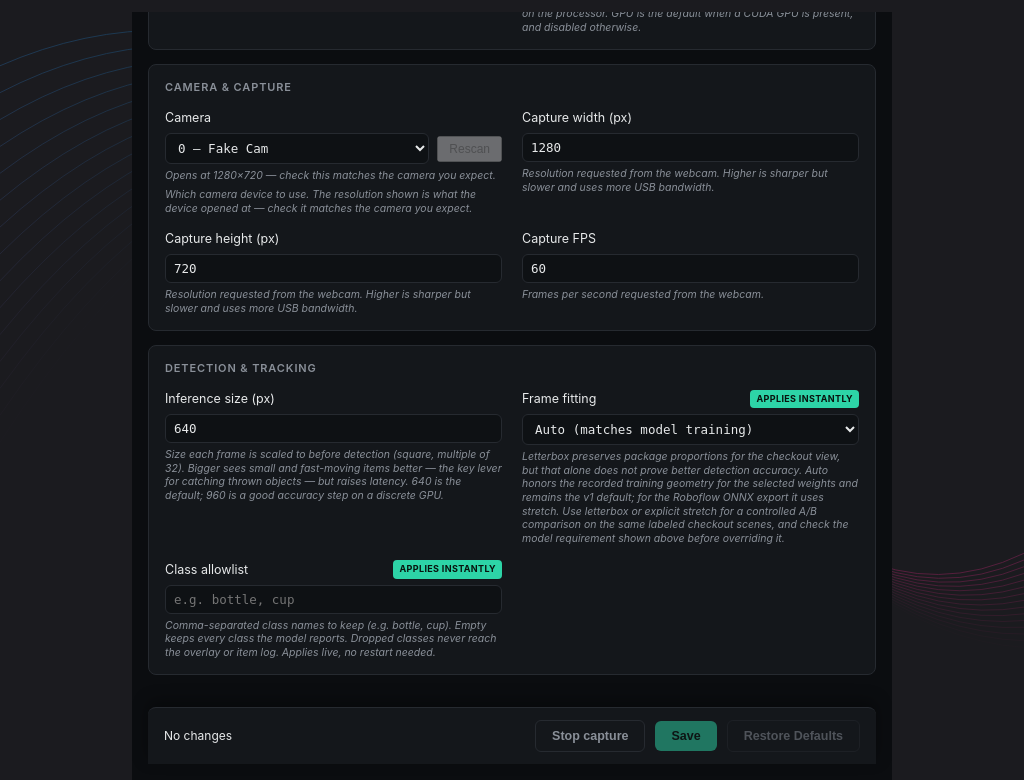
Test: AdminPanel › editing a restart-required field while running blocks Save with a warning
This screenshot has width=1024, height=780.
(page scrolled)
Replace the text in the number field labelled "Inference size (px)" with "960" at (334, 429), box [165,414,502,443]
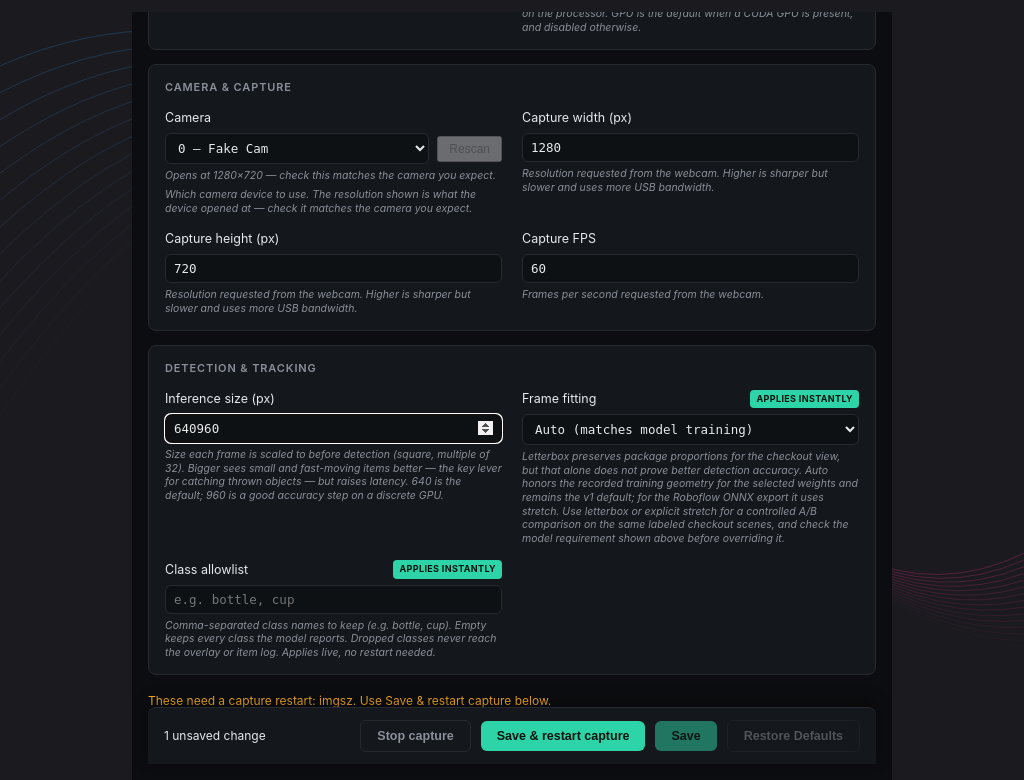
Expected: the button with test id "save-settings" is disabled, [656,721,717,751]
Result: the element with test id "restart-warning" is shown at [148,692,551,708]
Result: the element with test id "restart-warning" shows "imgsz" at [319,692,353,708]
